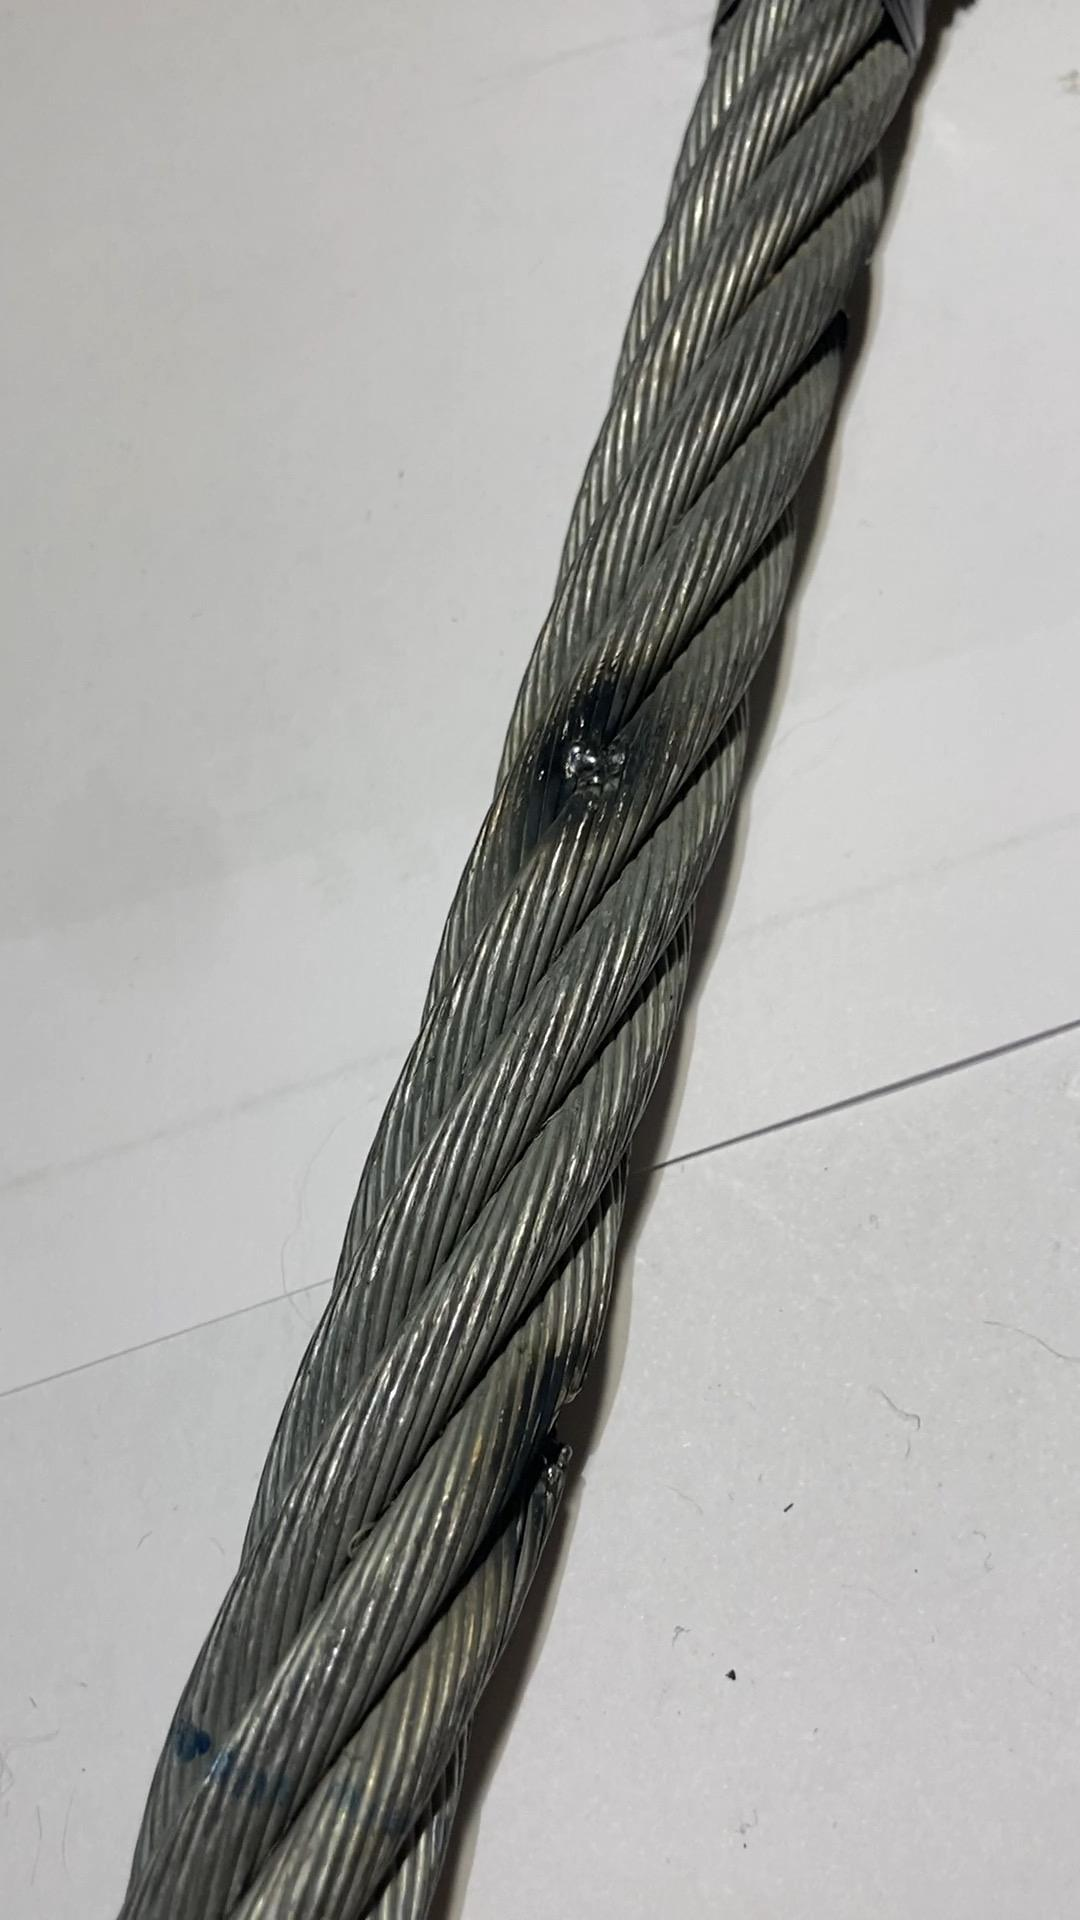thunderbolt: (517, 670, 676, 845)
